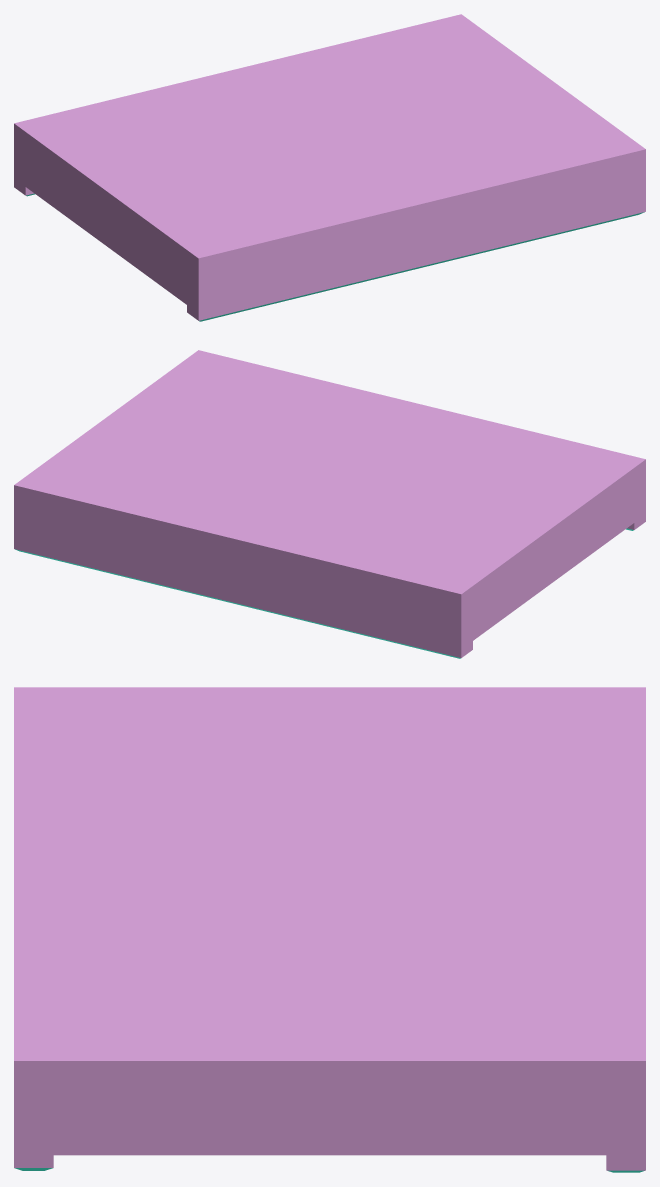
File: medium Building.fbx
The picture shows the model from 3 angles, top to bottom: view 1: azimuth 30°, elevation 25°; view 2: azimuth 150°, elevation 25°; view 3: azimuth 270°, elevation 25°; orthographic projection. The views are drawn at different scales.
Parts seen in each view (by area): view 1: Cube; view 2: Cube; view 3: Cube.
Boxes of the visible parts, <box> form: Cube: <box>14,14,645,321</box>; Cube: <box>14,350,645,658</box>; Cube: <box>14,687,645,1172</box>.
Size of the model in its own units: 700 by 100 by 500.
